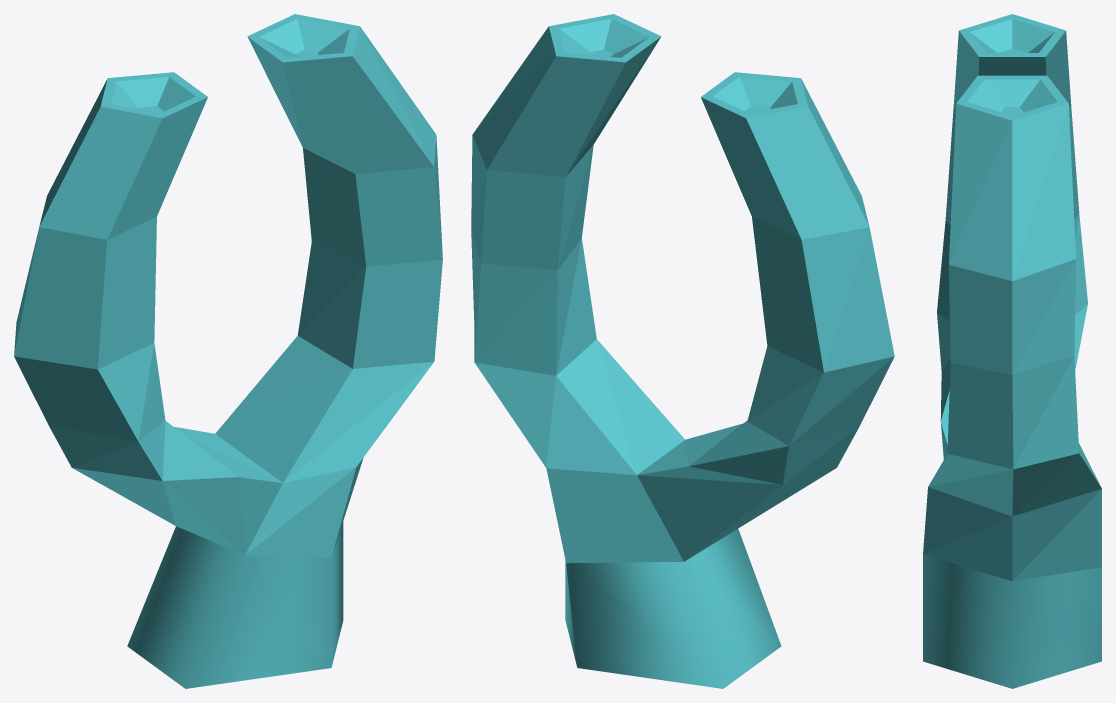
The model's file is coral 4.fbx.
3 renders of one model, left to right at view 1: azimuth 30°, elevation 25°; view 2: azimuth 150°, elevation 25°; view 3: azimuth 270°, elevation 25°, orthographic. The views are drawn at different scales.
Visible parts, largest first — view 1: Cylinder001; view 2: Cylinder001; view 3: Cylinder001.
Boxes of the visible parts, bbox=[...] form: Cylinder001: bbox=[14, 14, 442, 688]; Cylinder001: bbox=[471, 14, 894, 688]; Cylinder001: bbox=[923, 14, 1101, 688].
Size of the model in its own units: 3.25 by 4.34 by 1.22.
Materials: 1 (1 with a texture image).
